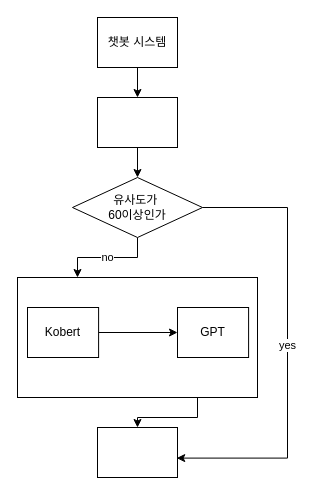
Some shapes in this 313 by 495 pixel diagram are drawn without their labels. The shapes that lost their labels are listed below. From the top down, each one's box as (x1, y1, x2, y2) in pixels, then its label:
(96, 96, 178, 148): 데이터셋
(96, 426, 178, 478): 출력
